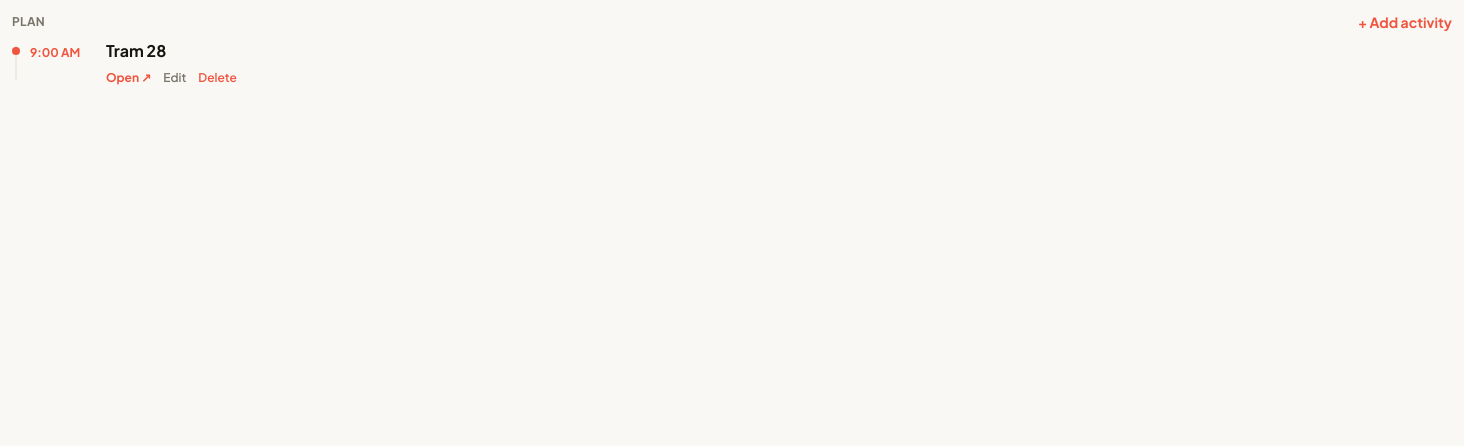
Test: DayPlan — moving an activity to another day › offers the activity’s own day, bounded by the trip
Click the button "Edit".
click(175, 78)  # box [163,70,186,86]
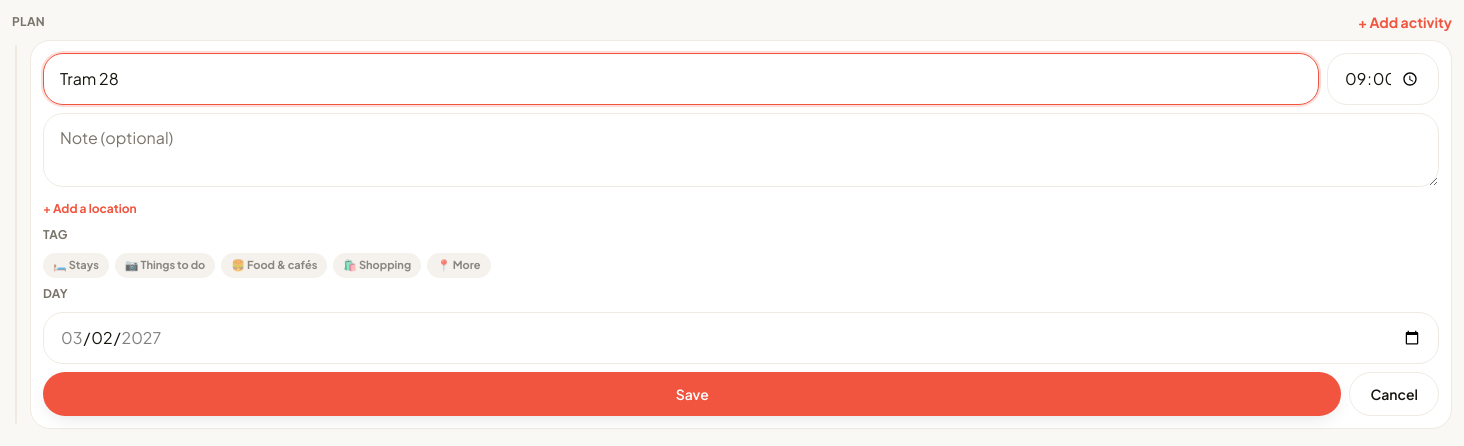
Check: the date field labelled "Day" holds "2027-03-02", box [43,312,1439,364]
